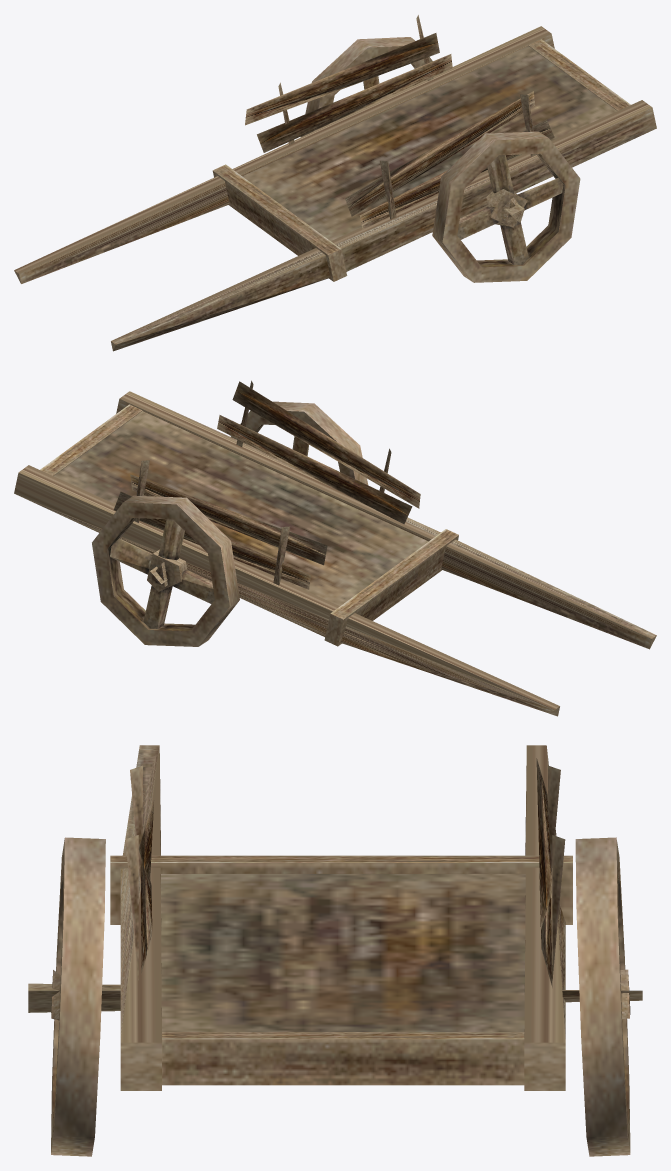
File: desert_cart02_lod_01.fbx
3 renders of one model, top to bottom at view 1: azimuth 30°, elevation 25°; view 2: azimuth 150°, elevation 25°; view 3: azimuth 270°, elevation 25°, orthographic. The views are drawn at different scales.
Visible parts, largest first — view 1: Bip01; view 2: Bip01; view 3: Bip01.
Boxes of the visible parts, x1,y1,x2,y2 form: Bip01: (14, 15, 656, 351); Bip01: (14, 380, 656, 716); Bip01: (28, 745, 642, 1156).
Size of the model in its own units: 4.77 by 1.43 by 2.36.
